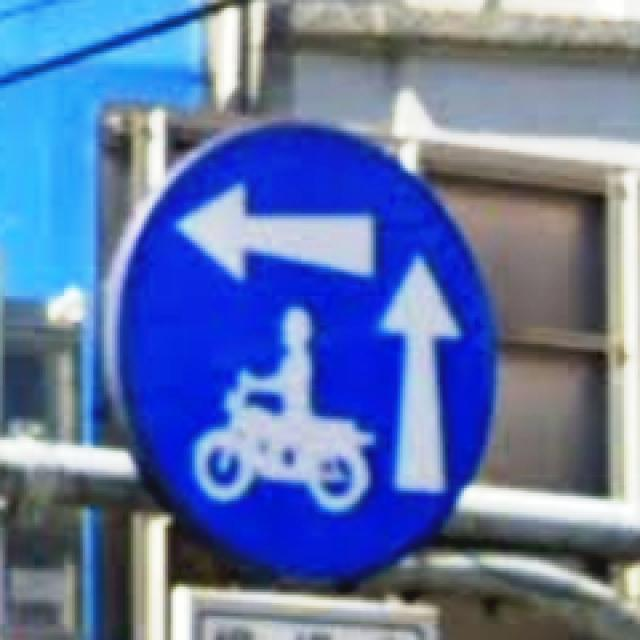twostageturn: (120, 123, 496, 573)
